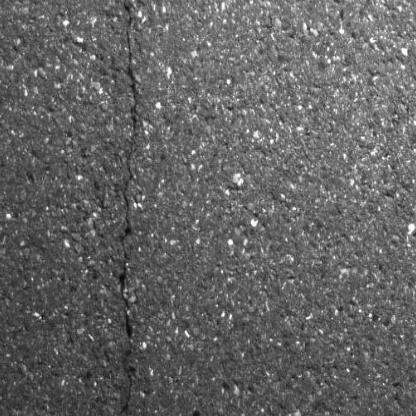Cracks: (112, 0, 144, 409)
